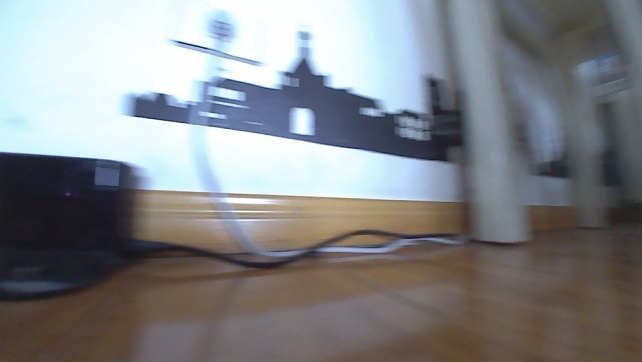wire: (124, 223, 476, 270)
